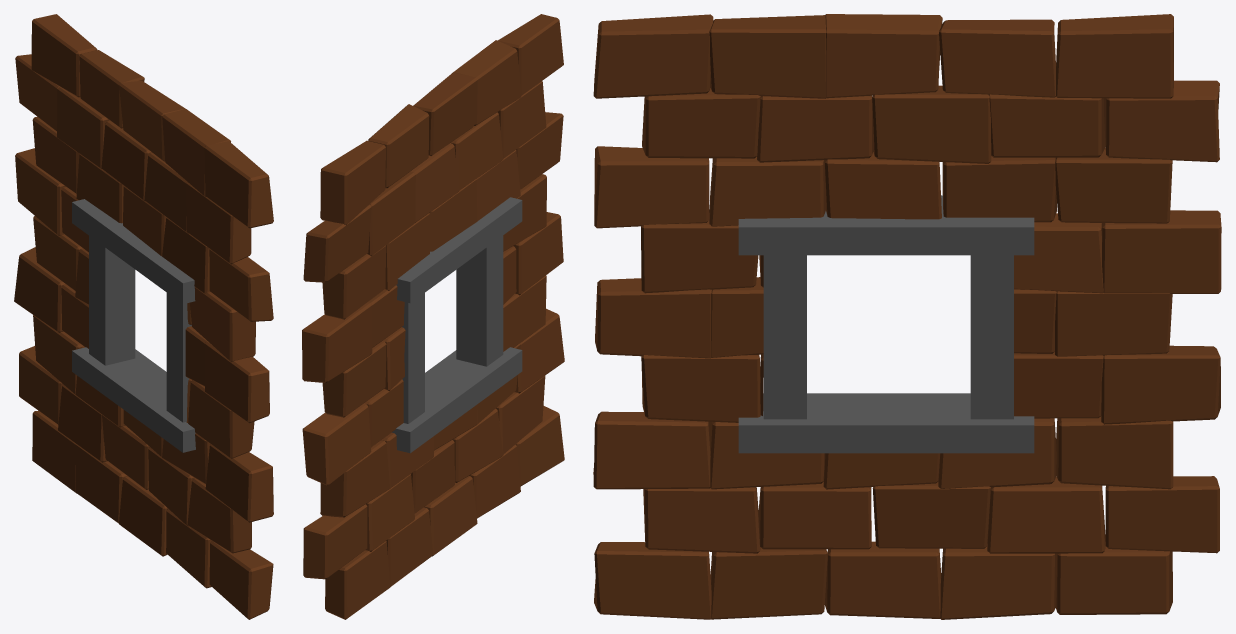
Rendered from BrickWall-RedBrick-Window.fbx.
3 views of the same model, side by side, from view 1: azimuth 30°, elevation 25°; view 2: azimuth 150°, elevation 25°; view 3: azimuth 270°, elevation 25° (orthographic). The views are drawn at different scales.
Parts seen in each view (by area): view 1: RedBrick Window Wall.001, RedBrick wf4.001, RedBrick wf2.001, RedBrick wf3.001, RedBrick wf1.001; view 2: RedBrick Window Wall.001, RedBrick wf4.001, RedBrick wf1.001, RedBrick wf3.001, RedBrick wf2.001; view 3: RedBrick Window Wall.001, RedBrick wf4.001, RedBrick wf3.001, RedBrick wf1.001, RedBrick wf2.001.
Part boxes in pixels (x1,y1,x2,y2): RedBrick Window Wall.001: [14, 14, 273, 619]; RedBrick wf4.001: [72, 347, 195, 452]; RedBrick wf2.001: [89, 236, 135, 365]; RedBrick wf3.001: [72, 199, 195, 303]; RedBrick wf1.001: [166, 293, 191, 422]; RedBrick Window Wall.001: [302, 14, 564, 619]; RedBrick wf4.001: [392, 347, 522, 453]; RedBrick wf1.001: [456, 235, 503, 366]; RedBrick wf3.001: [396, 197, 522, 303]; RedBrick wf2.001: [402, 293, 424, 423]; RedBrick Window Wall.001: [593, 14, 1221, 619]; RedBrick wf4.001: [738, 393, 1034, 453]; RedBrick wf3.001: [738, 195, 1034, 255]; RedBrick wf1.001: [763, 255, 806, 419]; RedBrick wf2.001: [970, 255, 1013, 419].
Size of the model in its own units: 105 by 907 by 874.
